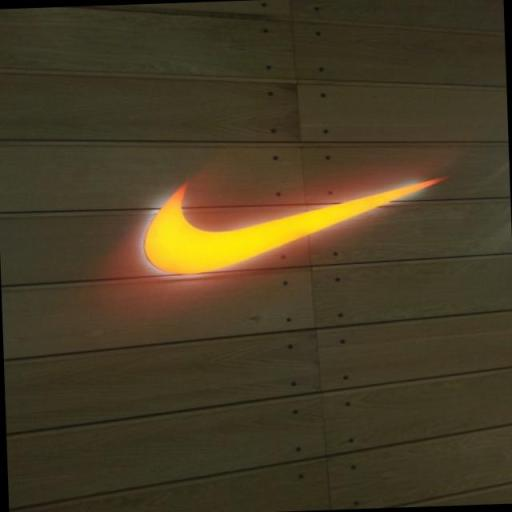Nike: (146, 174, 453, 276)
